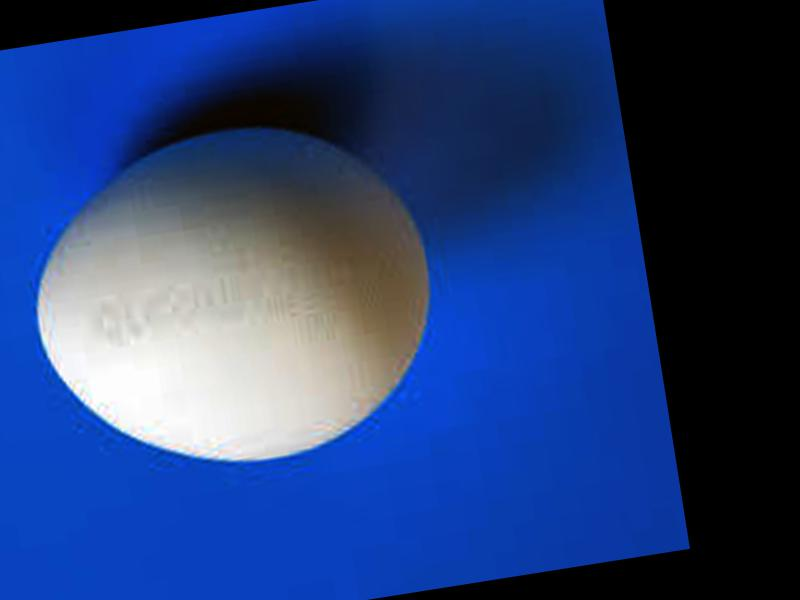Eggs: (7, 98, 456, 491)
